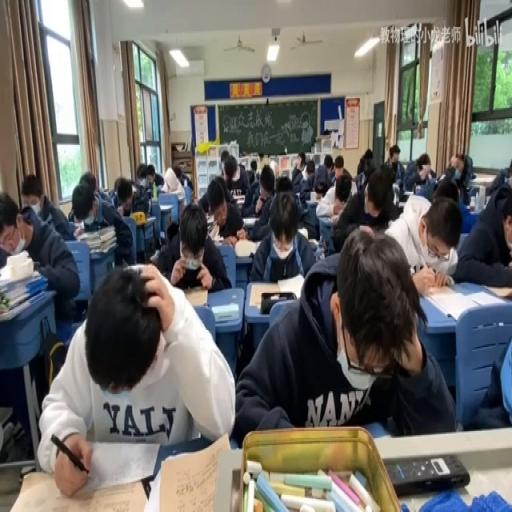calculator: (6, 461, 152, 512), (419, 284, 501, 322), (247, 276, 304, 309), (210, 300, 238, 322), (481, 281, 512, 300), (181, 286, 209, 307), (234, 238, 256, 256), (132, 212, 157, 227), (314, 213, 340, 225), (206, 214, 215, 234), (466, 181, 482, 192), (242, 214, 258, 224), (296, 226, 307, 239), (232, 194, 246, 204), (211, 234, 224, 244), (159, 203, 173, 212), (308, 238, 318, 248), (403, 189, 414, 198), (310, 189, 316, 201)
paper: (234, 229, 448, 441), (41, 260, 233, 495), (1, 189, 81, 327), (386, 186, 460, 283), (154, 196, 229, 289), (247, 186, 318, 279), (331, 159, 398, 255), (454, 182, 512, 289), (70, 176, 134, 269), (466, 322, 512, 428), (218, 154, 248, 204), (403, 151, 435, 192), (484, 155, 511, 198), (301, 155, 326, 198), (19, 174, 44, 214), (432, 180, 458, 208), (384, 142, 402, 182), (79, 171, 99, 202), (116, 183, 133, 215), (130, 188, 150, 214), (357, 148, 373, 178), (258, 165, 274, 195), (336, 180, 350, 204), (275, 174, 293, 190), (135, 164, 147, 188), (462, 156, 474, 180), (356, 222, 374, 237), (334, 156, 344, 182), (173, 164, 184, 186), (248, 156, 258, 180), (443, 165, 456, 181), (154, 172, 166, 189), (267, 156, 278, 174), (322, 155, 332, 174), (295, 154, 305, 170), (260, 154, 270, 170), (425, 165, 434, 181), (315, 183, 325, 195), (131, 180, 138, 194)
person: (384, 452, 470, 494), (320, 238, 327, 254)
